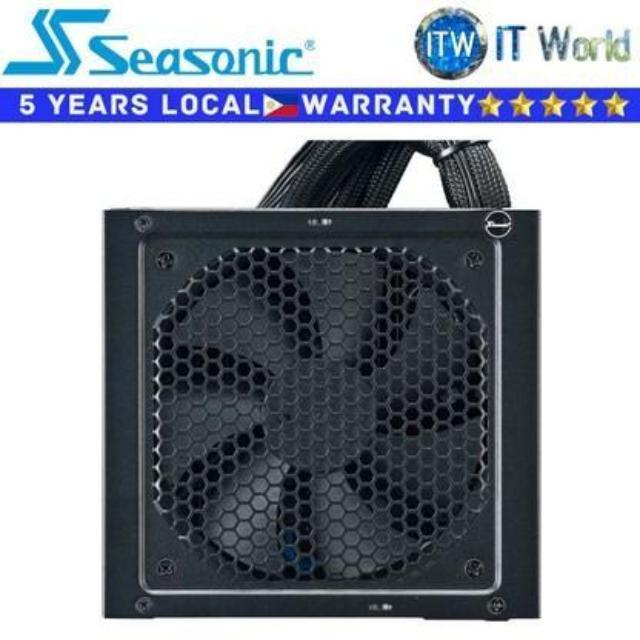PSU: (99, 202, 546, 627)
